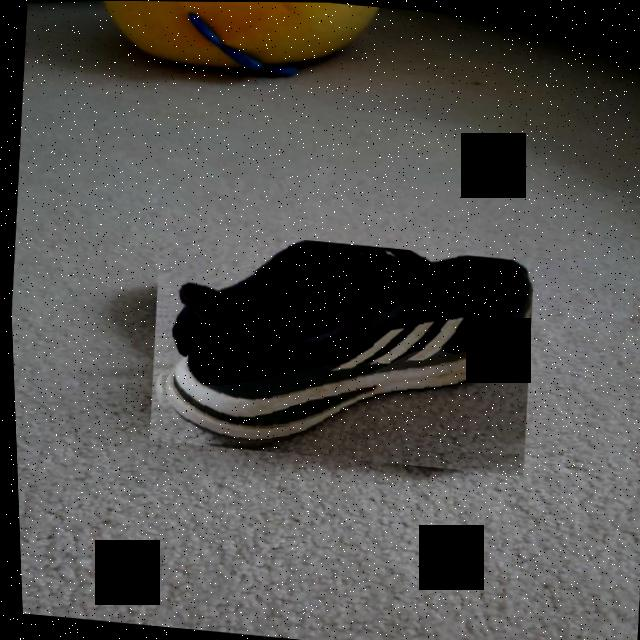shoe: (140, 226, 538, 475)
